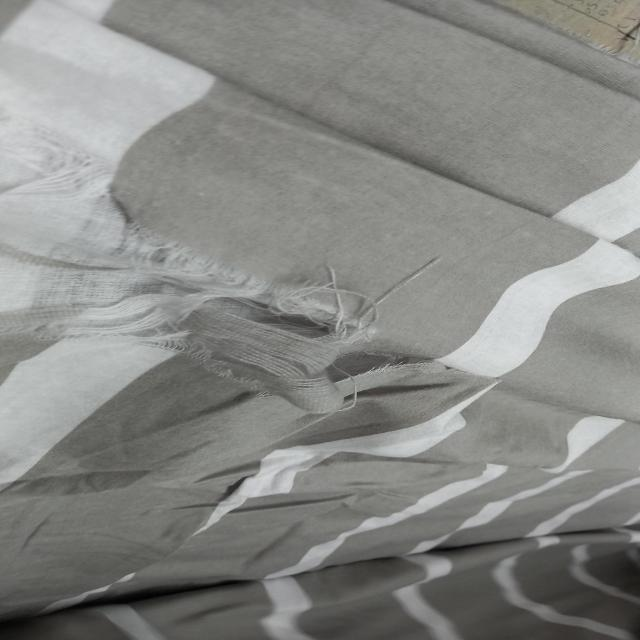cut: (16, 146, 442, 413)
